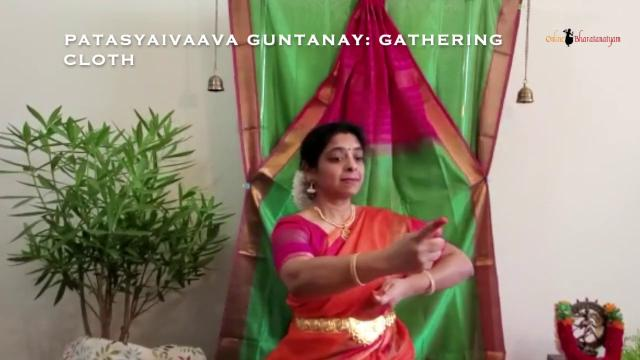kapitth: (361, 272, 409, 322)
